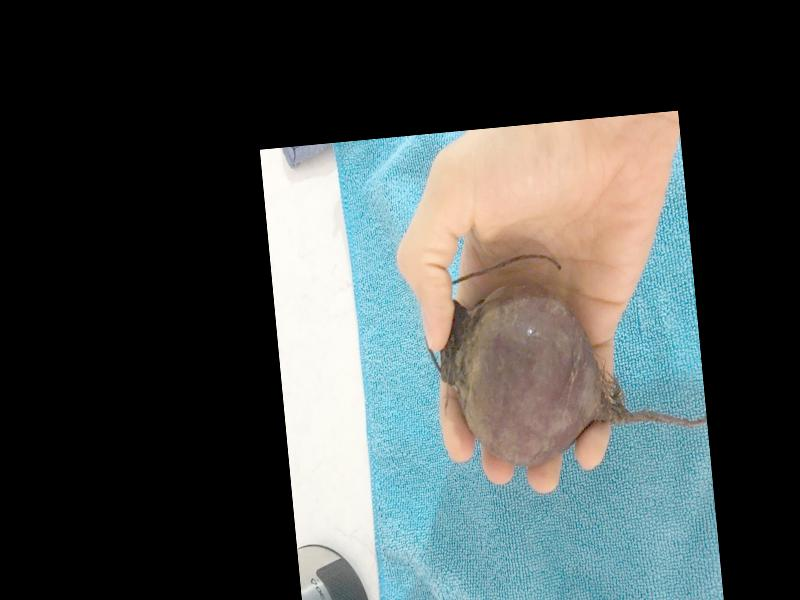Beet: (419, 240, 710, 475)
